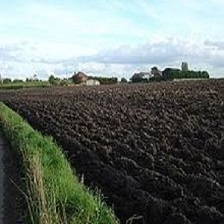loamy_soil: (30, 83, 210, 178)
